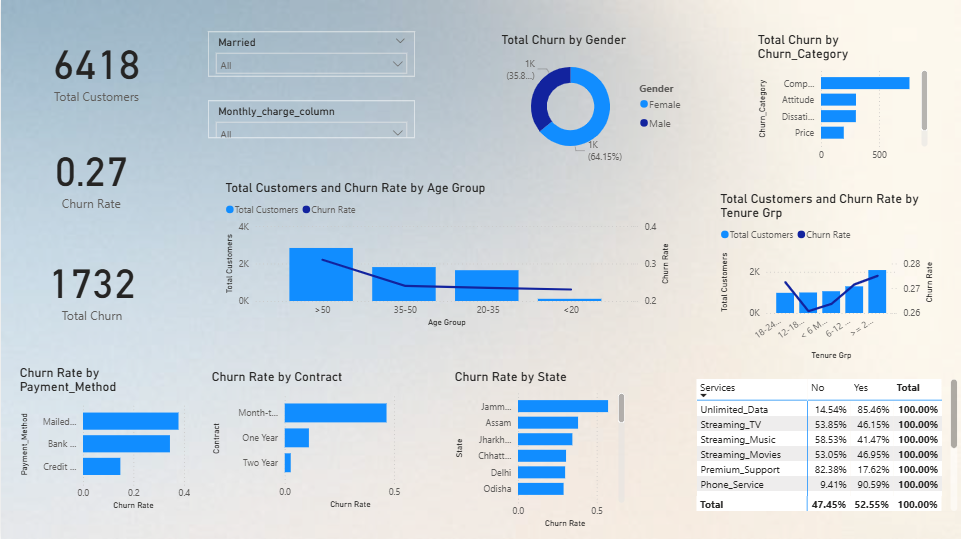

Layout of this report page (visuals, bound fields, positions):
{"tool":"powerbi","page":{"name":"Summary","canvas":[1280,720],"ordinal":0},"visuals":[{"type":"card","fields":{"Values":["tbl_Measures.Total Customers"]},"box":[20,0,214,180],"z":0},{"type":"card","fields":{"Values":["tbl_Measures.Total Churn"]},"box":[2,274,238,216],"z":1000},{"type":"card","fields":{"Values":["tbl_Measures.Churn Rate"]},"box":[2,124,236,216],"z":2000},{"type":"donutChart","fields":{"Category":["prod_churn.Gender"],"Y":["tbl_Measures.Total Churn"]},"box":[662,42,260,180],"z":3000},{"type":"lineStackedColumnComboChart","fields":{"Category":["Mapping_Agegrp.Age Group"],"Y":["tbl_Measures.Total Customers"],"Y2":["tbl_Measures.Churn Rate"]},"box":[294,240,602,200],"z":4000},{"type":"clusteredBarChart","fields":{"Category":["prod_churn.Payment_Method"],"Y":["tbl_Measures.Churn Rate"]},"box":[20,486.7,236.7,198.3],"z":5000},{"type":"clusteredBarChart","fields":{"Category":["prod_churn.Contract"],"Y":["tbl_Measures.Churn Rate"]},"box":[276,492,290,190],"z":6000},{"type":"lineStackedColumnComboChart","fields":{"Y":["tbl_Measures.Total Customers"],"Y2":["tbl_Measures.Churn Rate"],"Category":["Mapping_Tenure Grp.Tenure Grp"]},"box":[954,254,294,230],"z":7000},{"type":"clusteredBarChart","fields":{"Category":["prod_churn.State"],"Y":["tbl_Measures.Churn Rate"]},"box":[600,492,236,216],"z":8000},{"type":"clusteredBarChart","fields":{"Y":["tbl_Measures.Total Churn"],"Category":["prod_churn.Churn_Category"]},"box":[1004,42,236,182],"z":9000},{"type":"pivotTable","fields":{"Rows":["prod_services.Services"],"Columns":["prod_services.Status"],"Values":["Sum(prod_services.Churn Status)"]},"box":[922,500,358,186],"z":10000},{"type":"slicer","fields":{"Values":["prod_churn.Monthly_charge_column"]},"box":[276,134,276,50],"z":11000},{"type":"slicer","fields":{"Values":["prod_churn.Married"]},"box":[276,42,276,60],"z":12000}]}

Visuals, with their boxes in screenshot pixels (x1, y1, x2, y2), scaled from the page's 1280x720 canvas onto the 961x539 screenshot:
card - tbl_Measures.Total Customers: 15:0:176:135
card - tbl_Measures.Total Churn: 2:205:180:367
card - tbl_Measures.Churn Rate: 2:93:179:255
donutChart - prod_churn.Gender x tbl_Measures.Total Churn: 497:31:692:166
lineStackedColumnComboChart - Mapping_Agegrp.Age Group x tbl_Measures.Total Customers: 221:180:673:329
clusteredBarChart - prod_churn.Payment_Method x tbl_Measures.Churn Rate: 15:364:193:513
clusteredBarChart - prod_churn.Contract x tbl_Measures.Churn Rate: 207:368:425:511
lineStackedColumnComboChart - tbl_Measures.Total Customers x tbl_Measures.Churn Rate: 716:190:937:362
clusteredBarChart - prod_churn.State x tbl_Measures.Churn Rate: 450:368:628:530
clusteredBarChart - tbl_Measures.Total Churn x prod_churn.Churn_Category: 754:31:931:168
pivotTable - prod_services.Services x prod_services.Status: 692:374:960:514
slicer - prod_churn.Monthly_charge_column: 207:100:414:138
slicer - prod_churn.Married: 207:31:414:76
